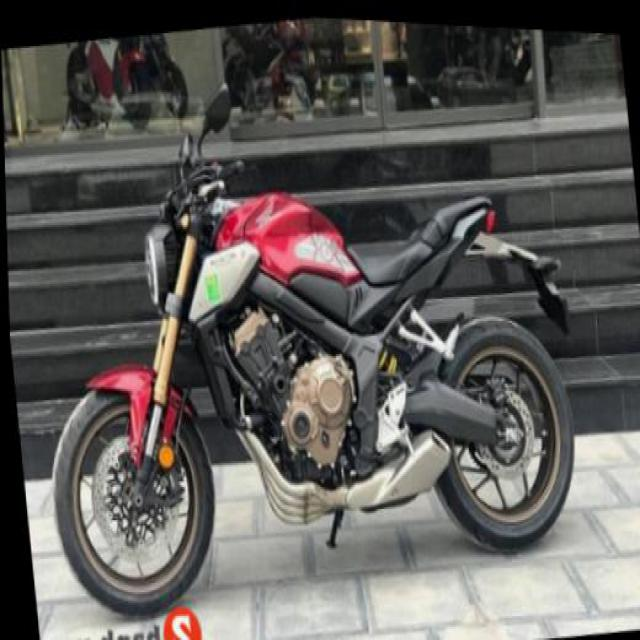CB650R: (16, 107, 594, 638)
